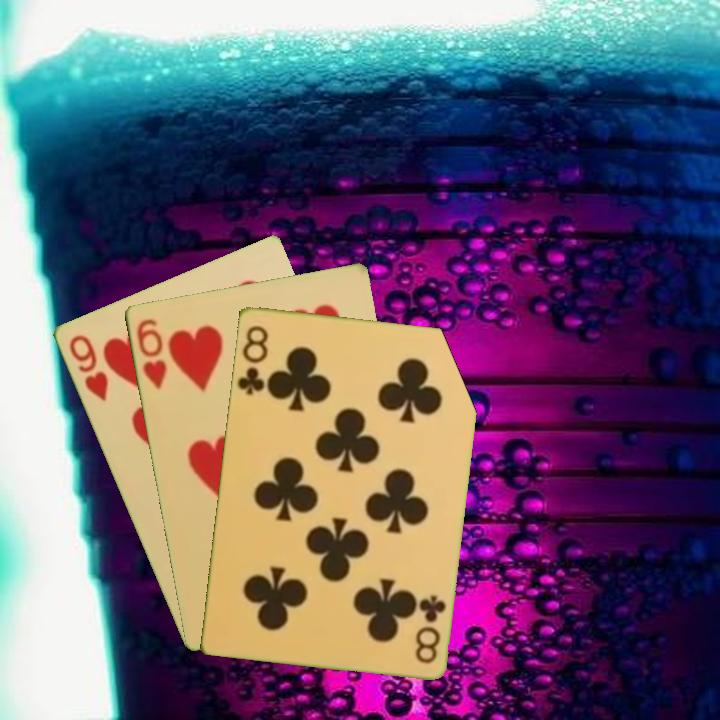6h: (132, 314, 169, 392)
8c: (233, 321, 271, 398), (411, 591, 448, 666)
9h: (65, 331, 111, 404)
